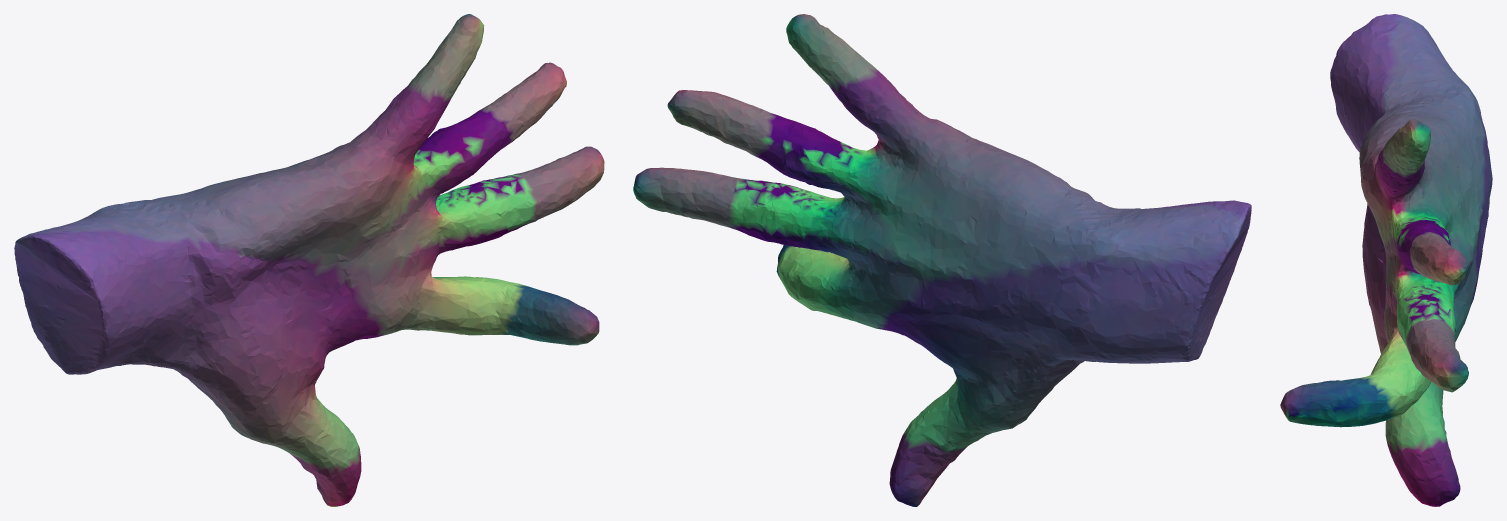
Rendered from hand-12.off.obj.
3 renders of one model, left to right at view 1: azimuth 30°, elevation 25°; view 2: azimuth 150°, elevation 25°; view 3: azimuth 270°, elevation 25°, orthographic. The views are drawn at different scales.
Size of the model in its own units: 1.75 by 1.3 by 0.5638.
